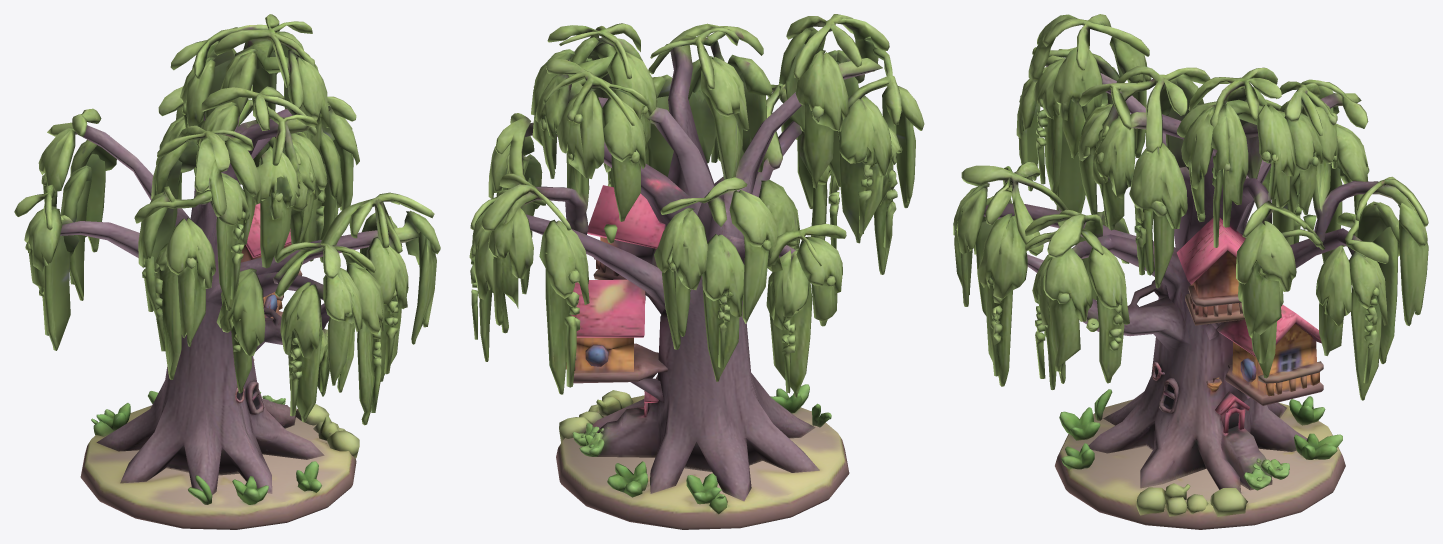
The model's file is treehouse.glb.
3 renders of one model, left to right at view 1: azimuth 30°, elevation 25°; view 2: azimuth 150°, elevation 25°; view 3: azimuth 270°, elevation 25°, orthographic. The views are drawn at different scales.
Visible parts, largest first — view 1: tripo_node_950b6eb1-5045-4a4e-b4e9-fe237599c95b; view 2: tripo_node_950b6eb1-5045-4a4e-b4e9-fe237599c95b; view 3: tripo_node_950b6eb1-5045-4a4e-b4e9-fe237599c95b.
Boxes of the visible parts, bbox=[...] form: tripo_node_950b6eb1-5045-4a4e-b4e9-fe237599c95b: bbox=[14, 14, 440, 529]; tripo_node_950b6eb1-5045-4a4e-b4e9-fe237599c95b: bbox=[469, 14, 924, 529]; tripo_node_950b6eb1-5045-4a4e-b4e9-fe237599c95b: bbox=[953, 14, 1428, 529].
Size of the model in its own units: 0.8145 by 0.998 by 0.998.
Materials: 1 (1 with a texture image).
